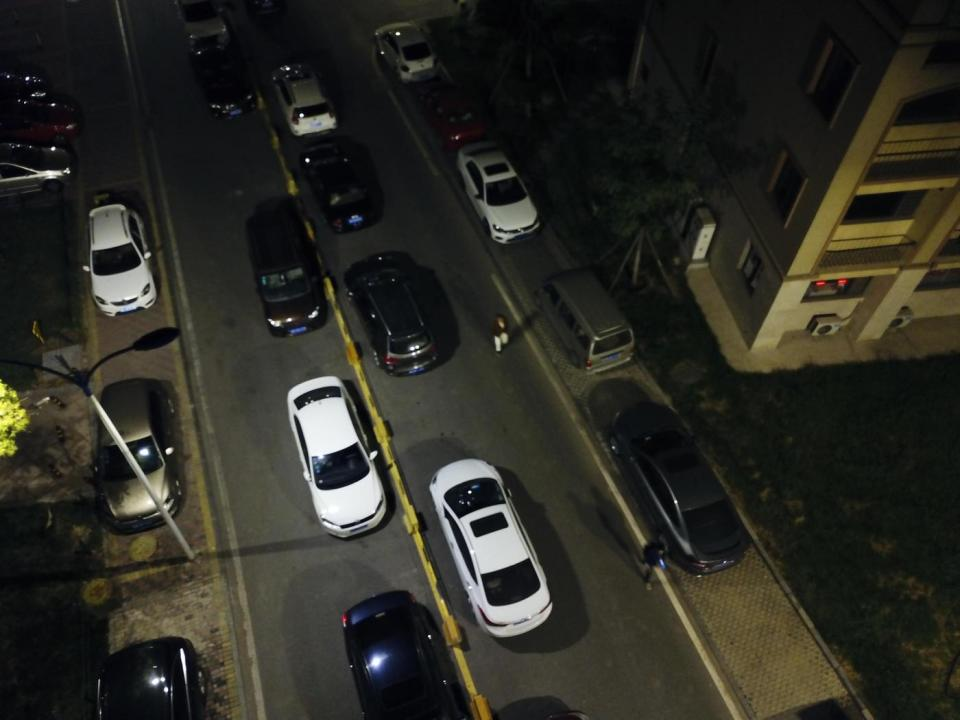car: (608, 403, 751, 576), (428, 458, 554, 638), (284, 375, 388, 540), (341, 589, 460, 720), (89, 377, 184, 536), (343, 255, 438, 376), (245, 211, 327, 339), (88, 636, 207, 720), (454, 139, 542, 245), (81, 204, 158, 318), (299, 139, 378, 233), (190, 38, 258, 120), (270, 63, 338, 140), (414, 82, 484, 150), (0, 142, 79, 202), (0, 93, 85, 144), (374, 22, 441, 86), (171, 0, 234, 49)
van: (532, 268, 635, 375)
